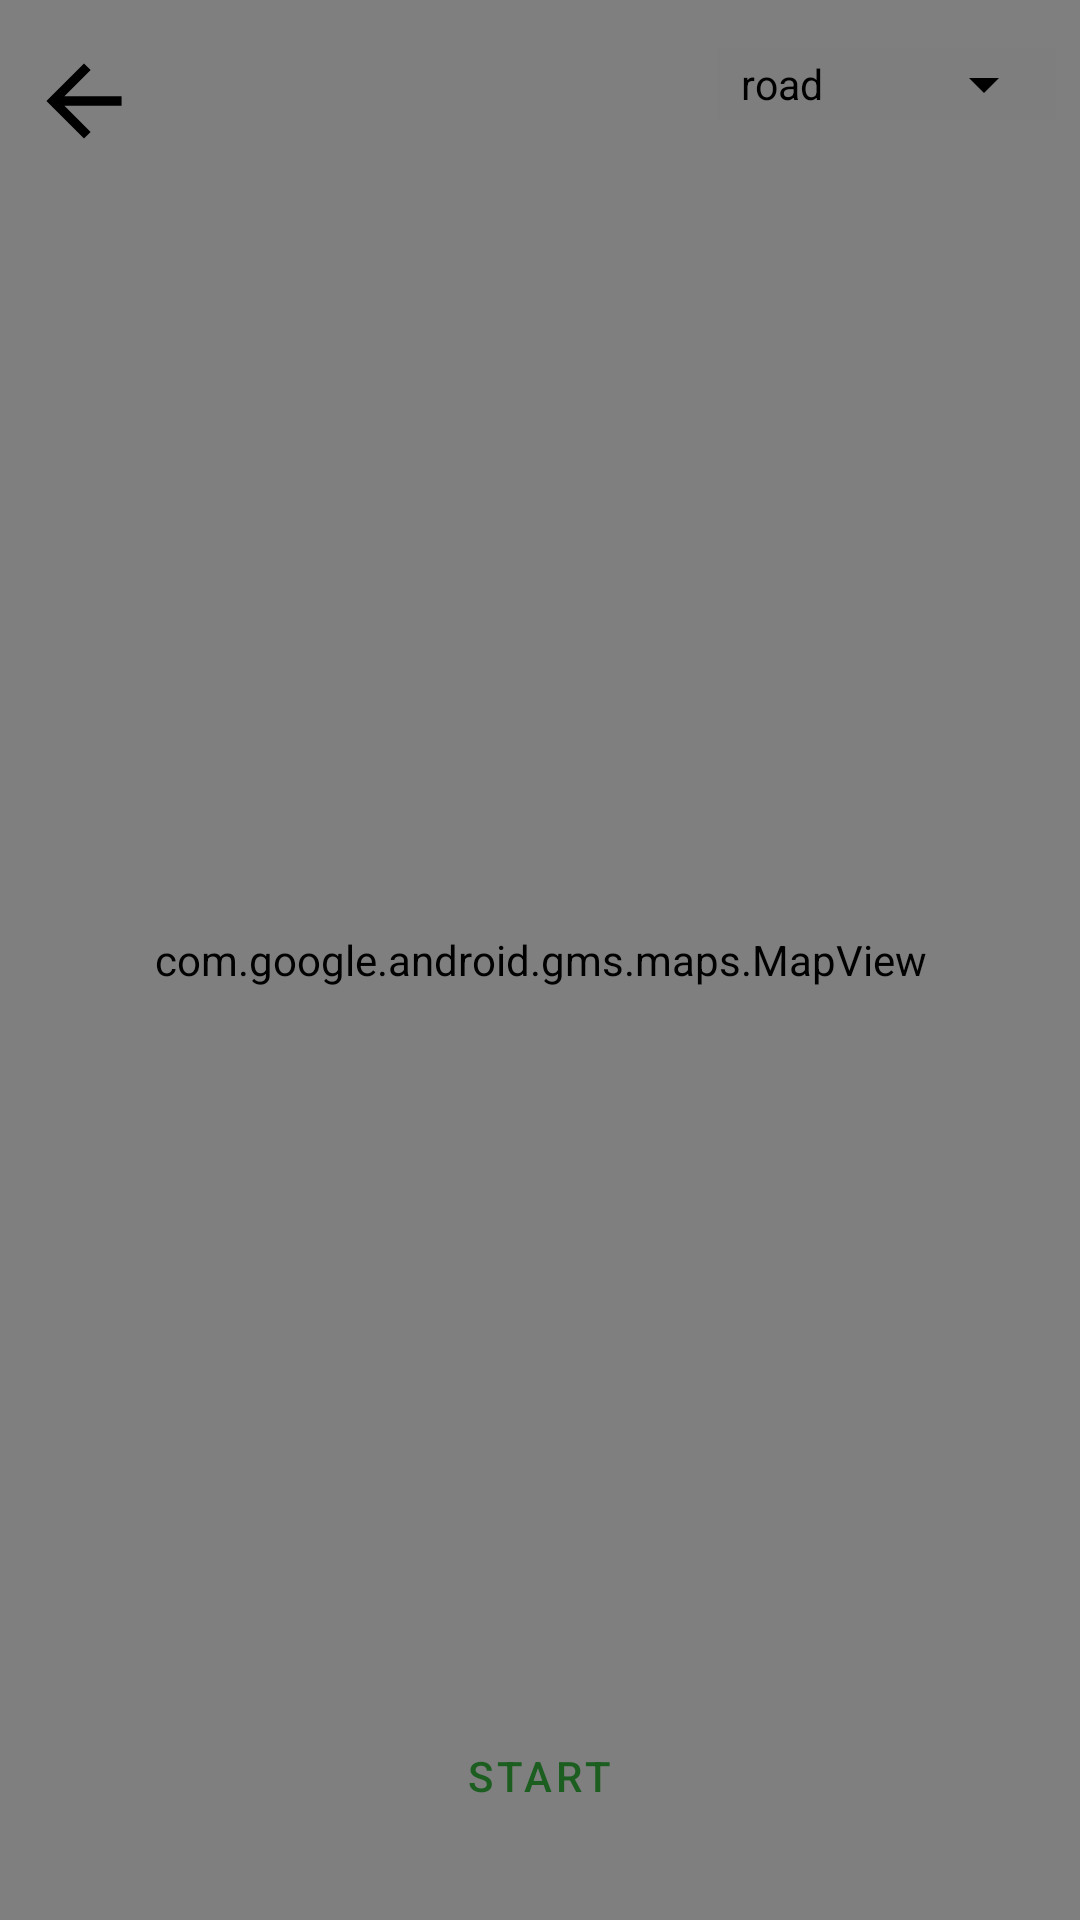

Named icons in this screenshot (1080w x 1920h) and their bounding boxes, (x1=x1, y1=y1, x2=x2, y2=y2):
back: (x1=47, y1=64, x2=122, y2=138)
